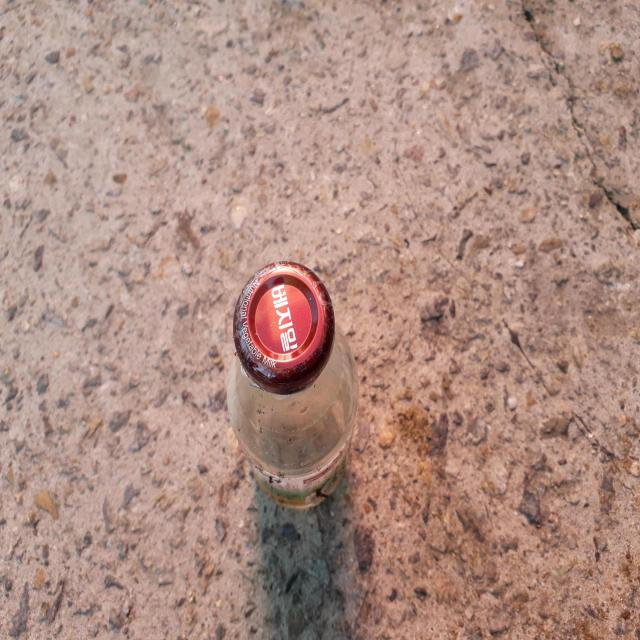glass: (228, 261, 358, 508)
